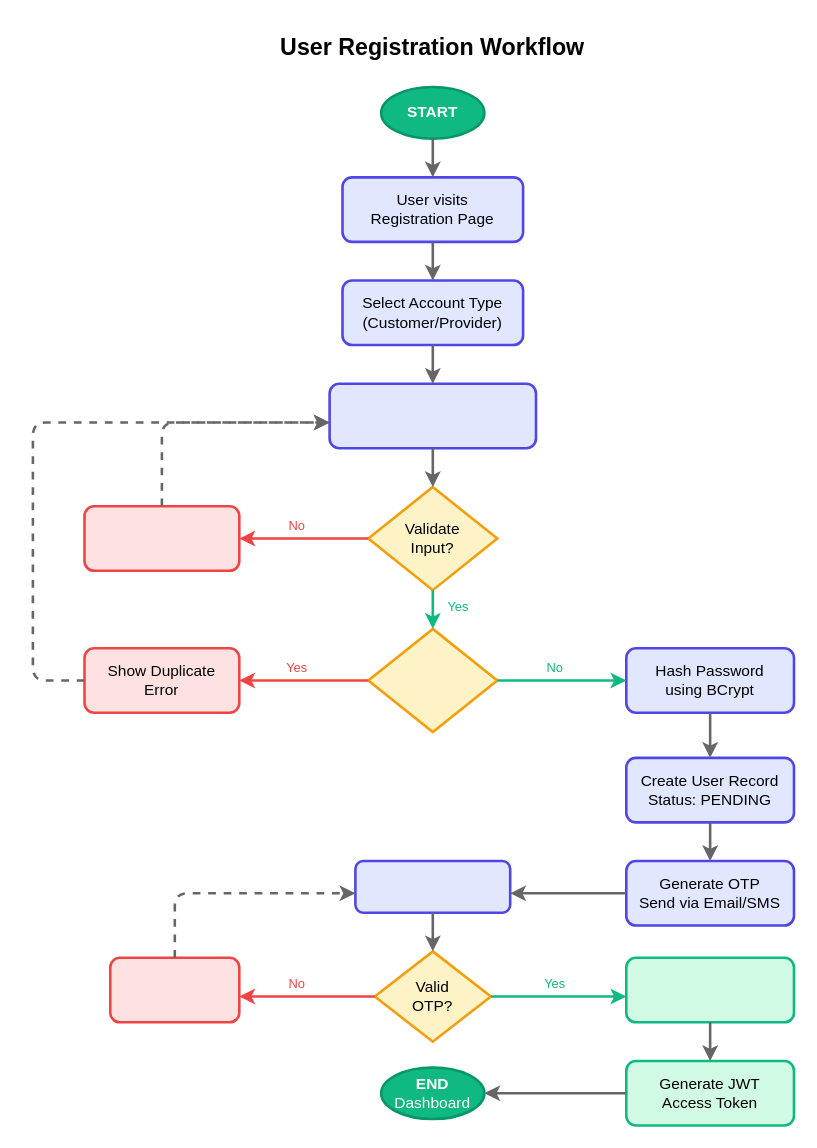
The diagram is 817 pixels wide and 1148 high, and some of its shapes have lost their labels. Here are the shapes that lost their labels. From the top down, the box of each, then its label:
(328, 382, 537, 449): Enter Registration Details Name, Email/Phone, Password
(83, 504, 240, 571): Show Validation Errors
(366, 627, 498, 733): Email/Phone Exists?
(353, 859, 511, 913): User Enters OTP
(108, 956, 240, 1023): Retry/Resend OTP
(624, 956, 795, 1023): Verify Account Status: ACTIVE
